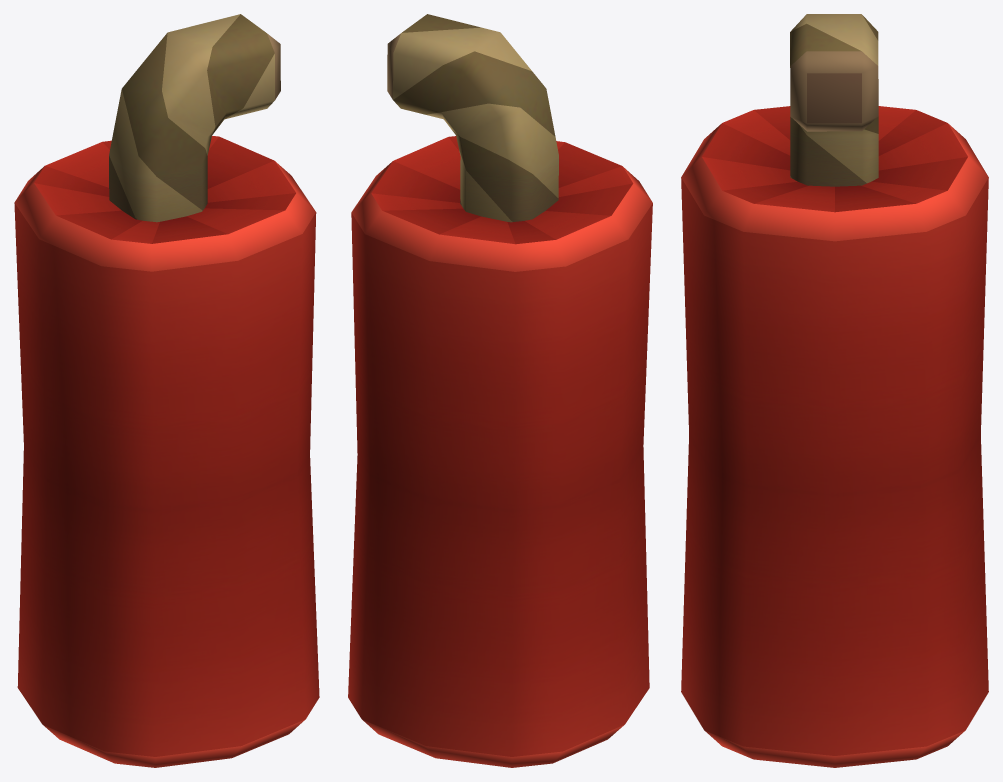
File: tnt_stick.fbx
The picture shows the model from 3 angles, left to right: view 1: azimuth 30°, elevation 25°; view 2: azimuth 150°, elevation 25°; view 3: azimuth 270°, elevation 25°; orthographic projection. The views are drawn at different scales.
Visible parts, largest first — view 1: tnt_stick; view 2: tnt_stick; view 3: tnt_stick.
Boxes of the visible parts, x1,y1,x2,y2 form: tnt_stick: (14,14,319,767); tnt_stick: (348,14,652,767); tnt_stick: (681,14,988,767).
Bounding box in the file's own units: 32.49 × 81.15 × 32.06.
